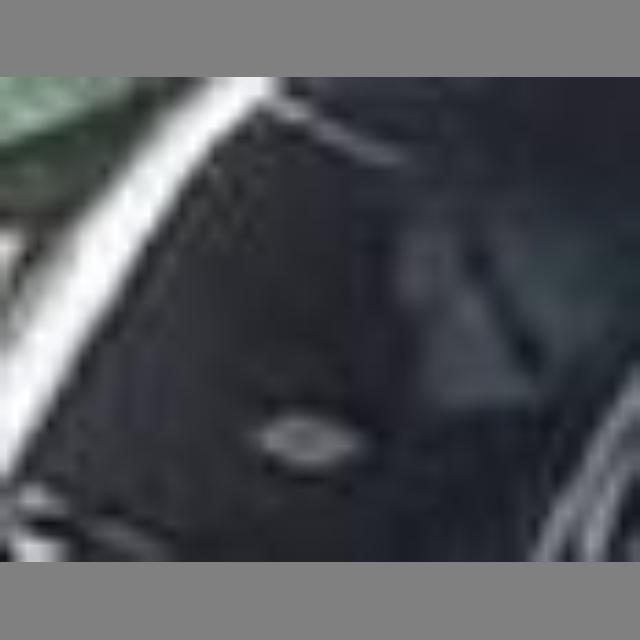pakai: (353, 209, 607, 408)
